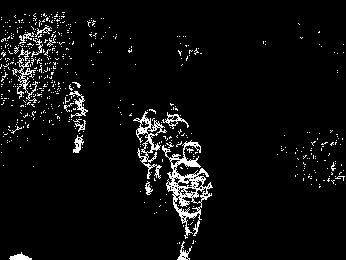person: (167, 142, 213, 260), (136, 107, 163, 196), (160, 103, 188, 162), (65, 80, 86, 154)
